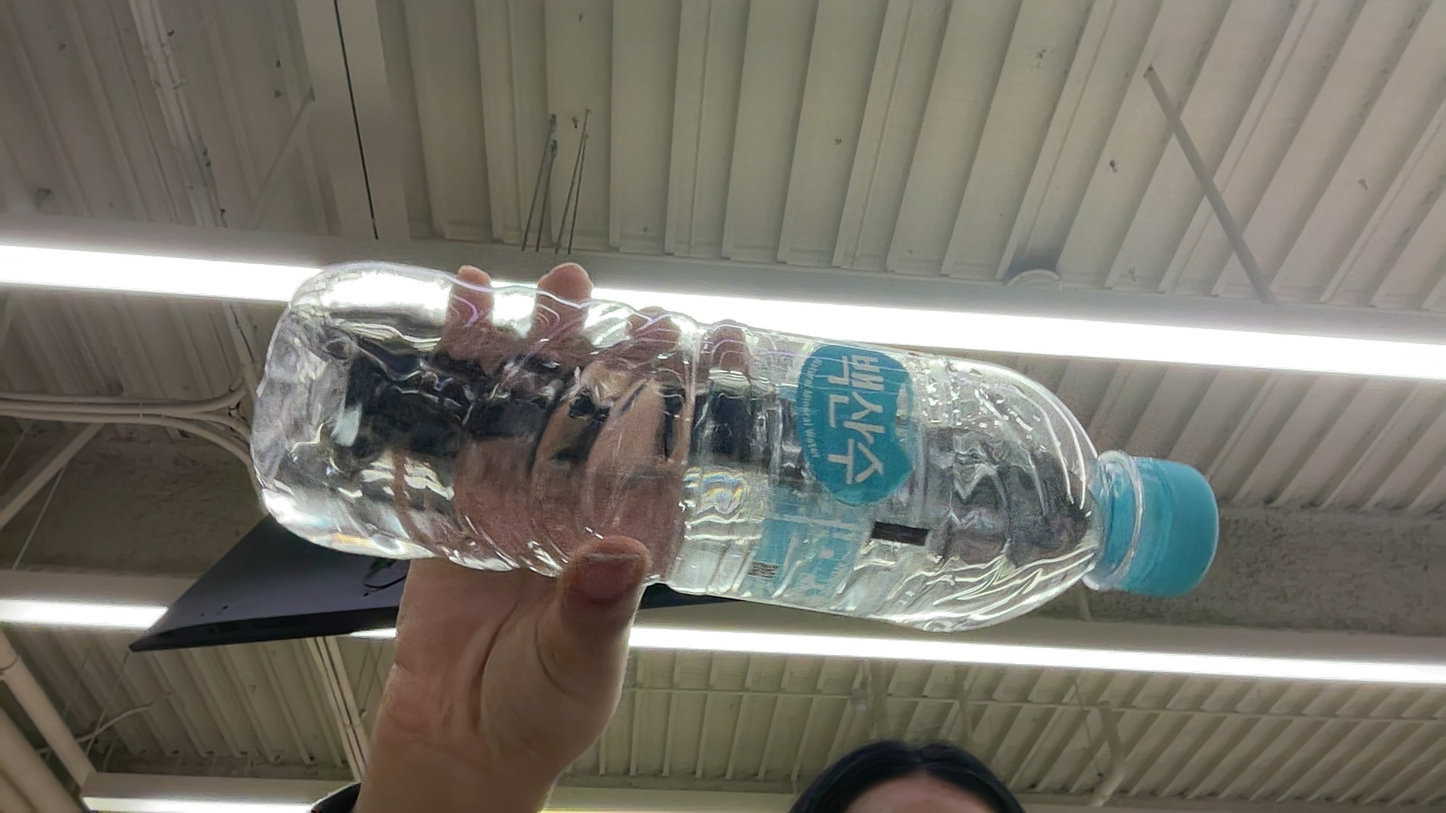Plastic: (6, 407, 252, 611)
